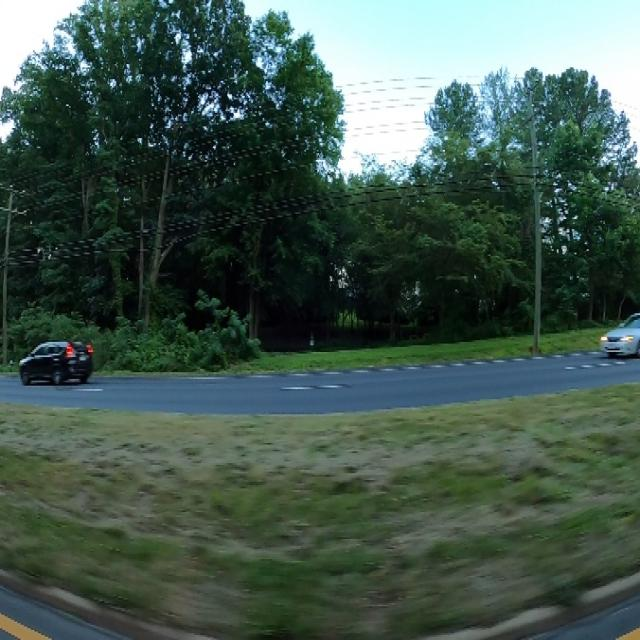car: (17, 323, 92, 389), (596, 303, 640, 361)
